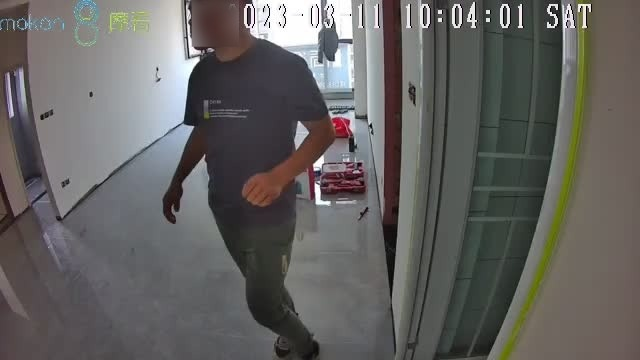people: (162, 1, 338, 360)
window: (259, 1, 353, 90)
